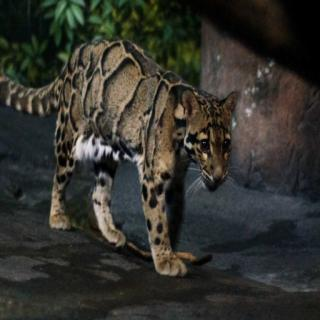Leopard: (1, 35, 277, 294)
